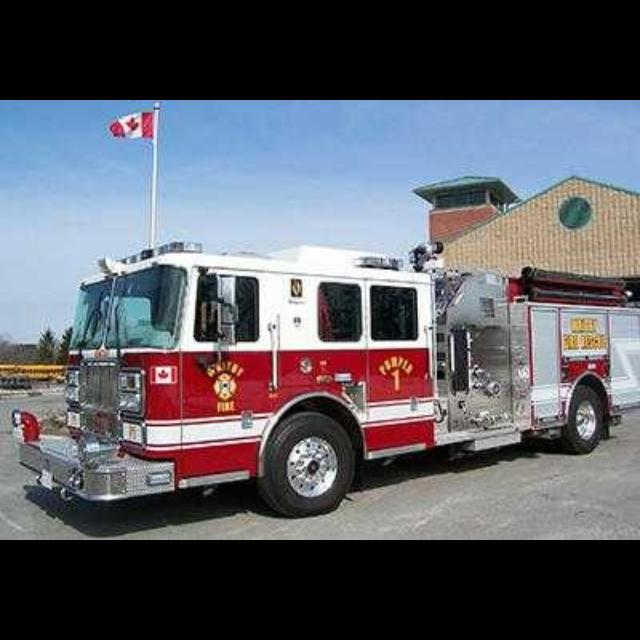emergency: (14, 238, 638, 516)
